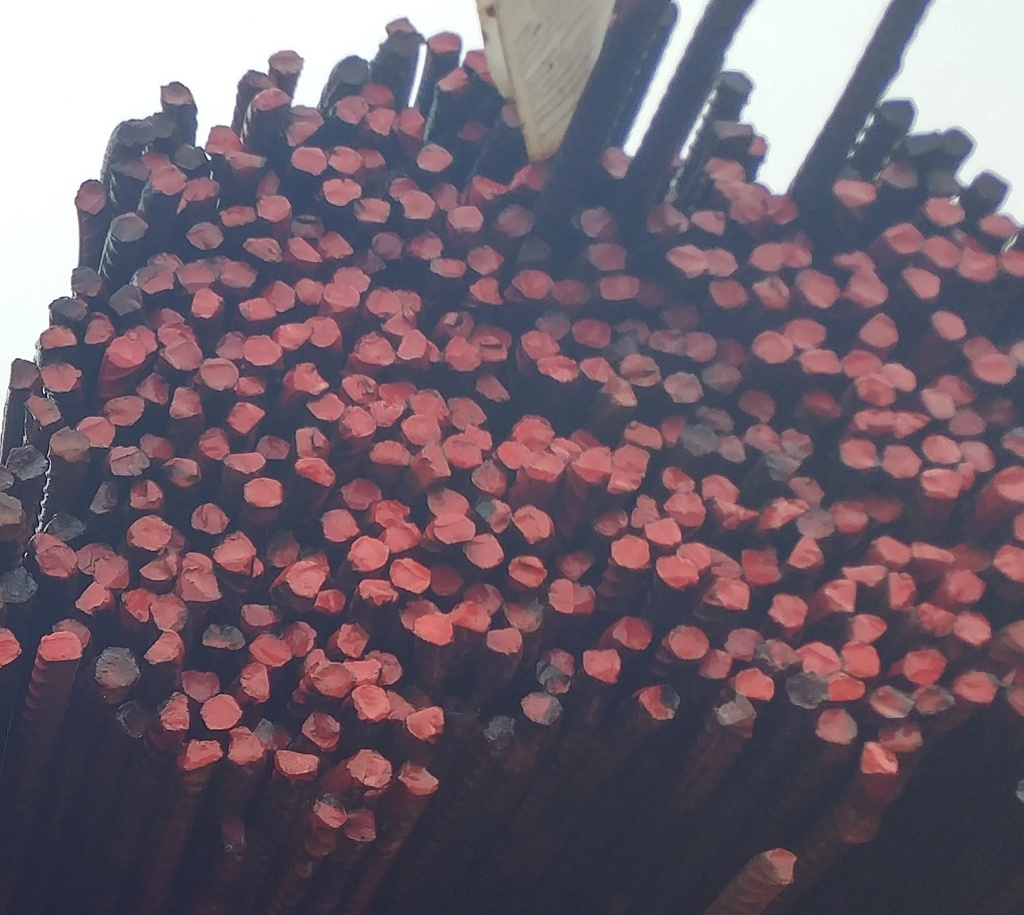dipstick: (181, 551, 221, 601), (96, 648, 139, 687), (844, 269, 887, 307), (610, 448, 648, 490), (796, 270, 839, 307), (786, 672, 827, 708), (348, 749, 390, 784), (4, 445, 48, 478), (36, 543, 76, 579), (201, 694, 241, 730), (512, 503, 552, 539), (474, 322, 511, 360), (216, 533, 255, 569), (904, 650, 946, 683), (872, 686, 914, 719), (705, 577, 748, 609), (914, 684, 957, 716), (412, 444, 449, 481), (840, 440, 882, 472), (303, 713, 341, 748), (667, 492, 705, 527), (753, 277, 791, 312), (389, 559, 429, 592), (669, 625, 709, 658), (817, 710, 857, 743), (667, 245, 707, 278), (313, 664, 354, 696), (152, 594, 188, 630), (352, 686, 389, 721), (406, 706, 443, 741), (506, 597, 543, 632), (287, 562, 325, 596), (614, 616, 652, 650), (641, 685, 679, 719), (765, 847, 798, 886), (958, 672, 999, 703), (743, 548, 779, 583), (643, 205, 688, 233), (883, 444, 920, 478), (958, 248, 996, 281), (352, 536, 391, 568), (130, 516, 170, 547), (513, 417, 553, 448), (759, 500, 803, 528), (878, 725, 922, 753), (733, 669, 774, 699), (844, 642, 880, 676), (863, 313, 897, 349), (139, 549, 176, 582), (581, 650, 618, 683), (447, 398, 486, 429), (2, 567, 37, 601), (577, 446, 611, 481), (192, 502, 229, 534), (753, 332, 790, 364), (865, 492, 902, 524), (524, 694, 562, 725), (514, 271, 553, 301), (251, 635, 290, 665), (755, 644, 800, 670), (658, 558, 698, 587), (800, 643, 840, 672), (262, 530, 296, 564), (955, 612, 990, 645), (510, 556, 546, 588), (613, 537, 649, 569), (465, 536, 502, 567), (947, 571, 984, 602), (993, 546, 1024, 583), (343, 478, 381, 508), (769, 596, 807, 626), (856, 376, 894, 406), (886, 224, 924, 254), (467, 245, 506, 274), (974, 358, 1019, 383), (241, 663, 269, 703), (417, 615, 452, 647), (924, 236, 959, 268), (177, 262, 220, 288), (918, 605, 954, 636), (601, 378, 638, 408), (665, 372, 702, 402), (108, 448, 149, 475), (400, 765, 438, 794), (51, 429, 90, 457), (160, 458, 202, 484), (229, 730, 262, 763), (472, 461, 506, 493), (283, 621, 315, 655), (431, 563, 465, 595), (145, 632, 180, 663), (182, 669, 217, 700), (476, 500, 511, 531), (294, 458, 334, 485), (715, 501, 755, 528), (44, 515, 87, 540), (202, 624, 245, 649), (80, 544, 117, 573), (703, 363, 740, 392), (860, 743, 897, 772), (922, 469, 959, 498), (369, 441, 410, 467), (538, 357, 579, 383), (622, 356, 660, 384), (662, 302, 700, 330), (263, 279, 295, 312), (171, 387, 202, 421), (115, 702, 146, 736), (787, 538, 821, 569), (165, 343, 204, 370), (843, 349, 882, 376), (925, 198, 964, 225), (346, 806, 376, 841), (682, 425, 717, 455), (358, 333, 394, 362), (445, 436, 481, 465), (739, 392, 775, 421), (829, 673, 865, 702), (519, 331, 559, 357), (587, 245, 627, 271), (709, 281, 749, 307), (411, 389, 448, 417), (716, 699, 754, 726), (40, 633, 81, 658), (800, 348, 841, 373), (500, 205, 533, 236), (295, 427, 328, 458), (370, 651, 401, 684), (728, 628, 759, 661), (906, 268, 939, 299), (108, 336, 143, 365), (203, 359, 238, 388), (112, 213, 148, 241), (42, 363, 78, 391), (469, 277, 505, 305), (321, 511, 357, 539), (186, 740, 222, 768), (881, 101, 917, 129), (428, 489, 468, 514), (434, 515, 474, 540), (855, 409, 895, 434), (374, 500, 411, 527), (452, 604, 489, 631), (573, 321, 610, 348), (76, 181, 106, 214), (448, 339, 481, 369), (562, 547, 595, 577), (698, 649, 731, 679), (826, 581, 856, 614), (275, 749, 318, 772), (360, 580, 398, 606), (525, 452, 563, 478), (159, 694, 188, 728), (995, 467, 1024, 501), (244, 335, 279, 363), (229, 403, 264, 431), (244, 478, 279, 506), (405, 415, 440, 443), (924, 436, 959, 464), (940, 376, 975, 404), (108, 397, 144, 424), (889, 573, 915, 610), (77, 583, 108, 614), (786, 320, 826, 344), (975, 171, 1007, 201), (834, 503, 867, 532), (129, 481, 163, 509), (385, 526, 419, 554), (467, 582, 501, 610), (934, 311, 968, 339), (625, 423, 663, 448), (706, 157, 744, 182), (79, 419, 114, 446), (408, 232, 443, 259), (745, 425, 780, 452), (852, 615, 887, 642), (324, 178, 360, 204), (401, 600, 437, 626), (315, 796, 346, 826), (962, 441, 993, 471), (338, 624, 367, 656), (765, 453, 798, 481), (798, 507, 831, 535), (765, 197, 798, 225), (833, 180, 875, 202), (254, 720, 288, 747), (876, 536, 910, 563), (716, 179, 770, 196), (600, 274, 638, 298), (702, 476, 740, 500), (803, 392, 841, 416), (486, 627, 521, 653), (426, 30, 462, 55), (364, 290, 400, 315), (924, 169, 960, 194), (122, 590, 153, 619), (582, 208, 610, 240), (324, 284, 361, 308), (208, 124, 238, 153), (311, 316, 340, 346), (27, 396, 58, 424), (373, 232, 404, 260), (296, 363, 327, 391), (293, 147, 325, 174), (396, 107, 423, 139), (90, 482, 117, 514), (496, 441, 528, 468), (648, 518, 680, 545), (706, 249, 738, 276), (328, 146, 361, 172), (402, 192, 435, 218), (440, 312, 473, 338), (310, 393, 343, 419), (536, 664, 569, 690), (200, 428, 229, 457), (345, 407, 374, 436), (192, 289, 220, 319), (11, 358, 39, 388), (685, 332, 715, 360), (982, 217, 1024, 237), (111, 286, 142, 313), (337, 97, 368, 124), (596, 507, 627, 534), (418, 143, 450, 169), (883, 364, 915, 390), (552, 280, 588, 303), (698, 406, 734, 429), (278, 323, 311, 348), (896, 411, 929, 436), (135, 268, 174, 289), (188, 224, 222, 248), (473, 177, 507, 201), (549, 578, 573, 612), (728, 198, 762, 222), (98, 558, 126, 587), (336, 57, 366, 84), (57, 619, 87, 646), (782, 430, 812, 457), (922, 388, 952, 415), (221, 263, 256, 286), (649, 330, 684, 353), (39, 327, 77, 348), (222, 452, 264, 471), (150, 169, 183, 193), (605, 148, 633, 176), (139, 374, 168, 401), (539, 308, 568, 335), (356, 198, 390, 221), (692, 211, 726, 234), (86, 313, 112, 343), (711, 551, 741, 577), (905, 133, 944, 153), (159, 79, 190, 104), (141, 433, 172, 458), (781, 243, 812, 268), (184, 178, 219, 200), (253, 90, 288, 112), (383, 33, 415, 57), (882, 166, 920, 186), (287, 238, 320, 261), (71, 268, 98, 296), (844, 565, 886, 583), (438, 67, 467, 93), (718, 333, 744, 362), (370, 106, 395, 136), (396, 333, 426, 358), (477, 375, 507, 400), (446, 207, 480, 229), (952, 412, 986, 434), (247, 237, 278, 261), (293, 215, 324, 239), (345, 376, 376, 400), (372, 400, 403, 424), (257, 435, 289, 458), (663, 467, 695, 490), (217, 332, 243, 360), (945, 130, 973, 156), (288, 105, 326, 124), (333, 267, 369, 287), (914, 544, 954, 562), (114, 160, 148, 181), (241, 605, 275, 626), (1, 630, 22, 664), (258, 197, 290, 219), (753, 243, 780, 269), (219, 205, 254, 225), (520, 238, 548, 263), (716, 122, 751, 142), (175, 144, 204, 168), (351, 660, 380, 684), (791, 479, 824, 500), (573, 582, 596, 612), (582, 357, 613, 379), (119, 122, 153, 142), (720, 435, 745, 462), (321, 236, 354, 256), (1, 496, 23, 526), (296, 280, 322, 305), (457, 120, 489, 140), (272, 50, 301, 72), (837, 252, 874, 269), (288, 125, 316, 147), (524, 164, 546, 192), (52, 300, 86, 318), (430, 258, 464, 276), (963, 338, 999, 355), (678, 544, 708, 564), (465, 47, 488, 73), (361, 87, 396, 104), (257, 169, 279, 196), (240, 301, 273, 319), (630, 505, 657, 527), (236, 374, 264, 395), (380, 381, 416, 397), (433, 183, 456, 208), (390, 176, 416, 198), (226, 152, 264, 167), (146, 310, 184, 325), (316, 590, 344, 610), (1001, 253, 1024, 277), (391, 693, 412, 719), (381, 316, 412, 333), (152, 114, 177, 135), (160, 327, 195, 342), (142, 150, 172, 167), (360, 150, 386, 169), (244, 72, 274, 88), (555, 439, 579, 459), (469, 426, 490, 448), (148, 253, 179, 267), (387, 18, 414, 34), (138, 325, 154, 350), (400, 291, 419, 312), (751, 135, 768, 158)
